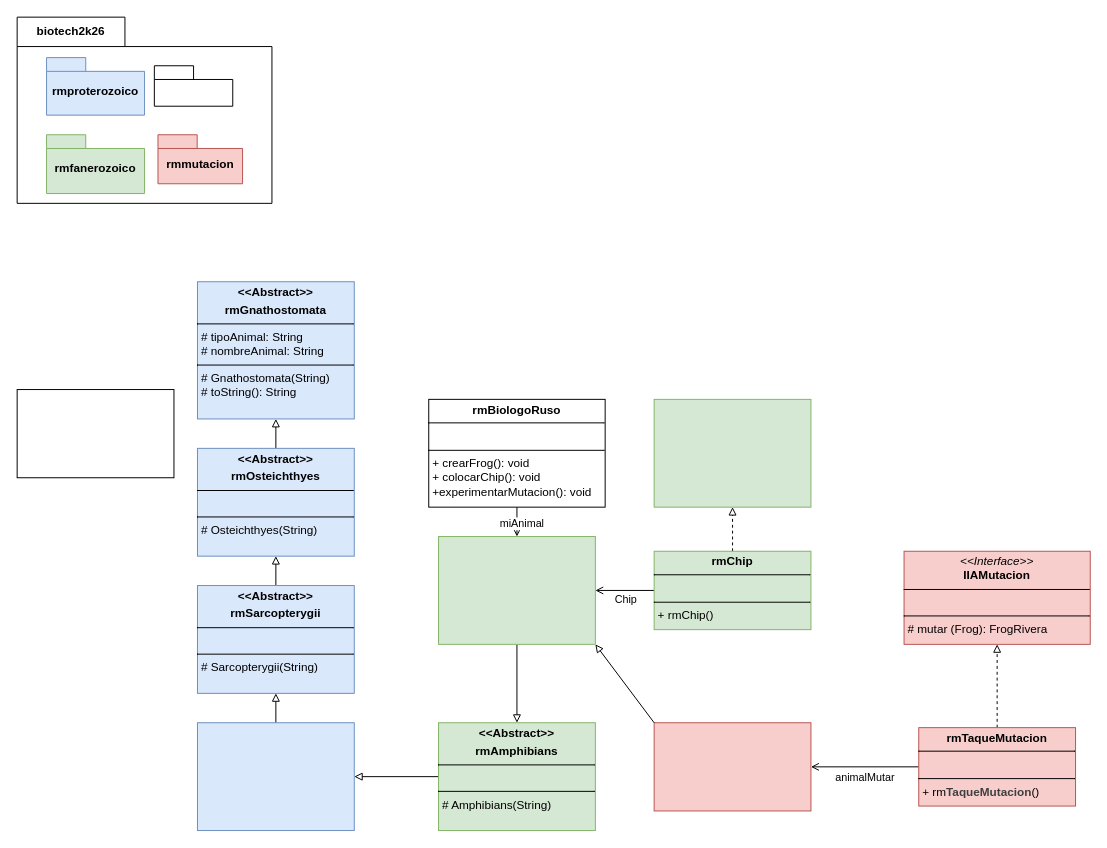
The diagram is 1107 pixels wide and 848 high, and some of its shapes have lost their labels. Each missing label, with the centre of its shape:
"<<Abstract>> rmTetrapoda # Tetrapoda(String)" belongs at (275,776).
"<<Interface>> rmIChip # on: boolean # on (String): boolean" belongs at (732,452).
"Frog +Frog(String)" belongs at (516,590).
"rmBiosistema + field: Type + method(): Type" belongs at (95,433).
"rmFrogRivera + rm FrogRivera ()" belongs at (732,766).
"rmtools" belongs at (193,85).
